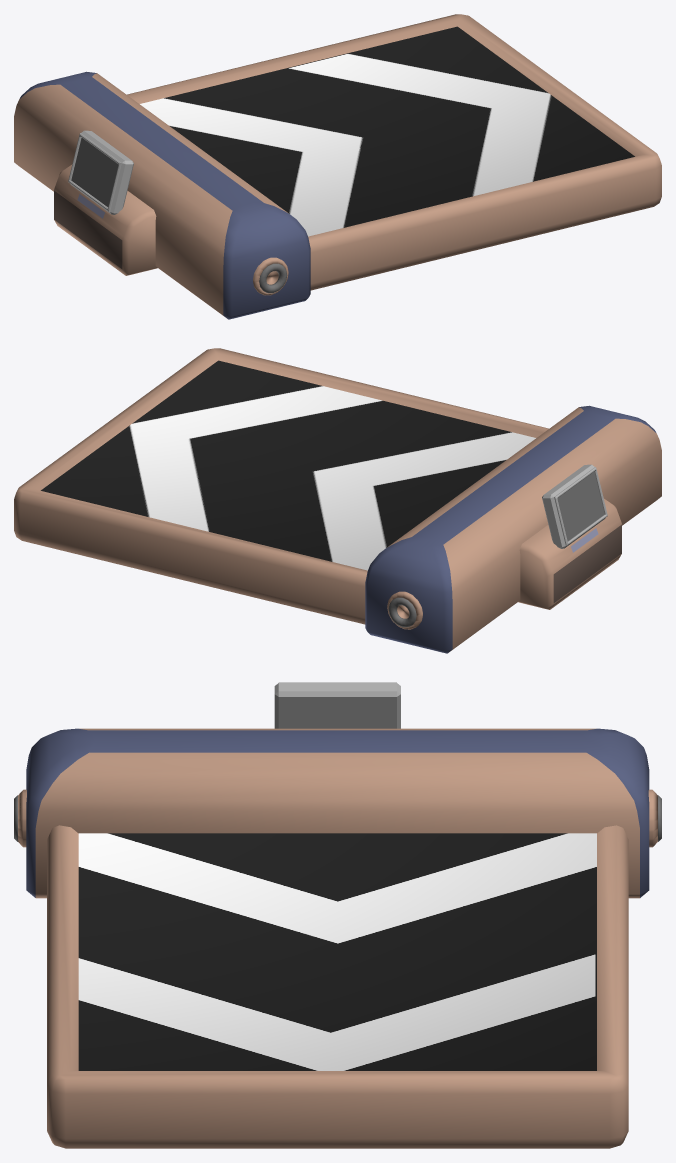
Rendered from treadmill.fbx.
3 views of the same model, one above another, from view 1: azimuth 30°, elevation 25°; view 2: azimuth 150°, elevation 25°; view 3: azimuth 270°, elevation 25° (orthographic). The views are drawn at different scales.
Visible parts, largest first — view 1: treadmill; view 2: treadmill; view 3: treadmill.
Boxes of the visible parts, box(x1,y1,x2,y2) form: treadmill: box(14, 14, 661, 319); treadmill: box(14, 348, 661, 653); treadmill: box(14, 682, 661, 1148).
Size of the model in its own units: 5.48 by 1.12 by 4.45.
7 materials, 1 textured.
